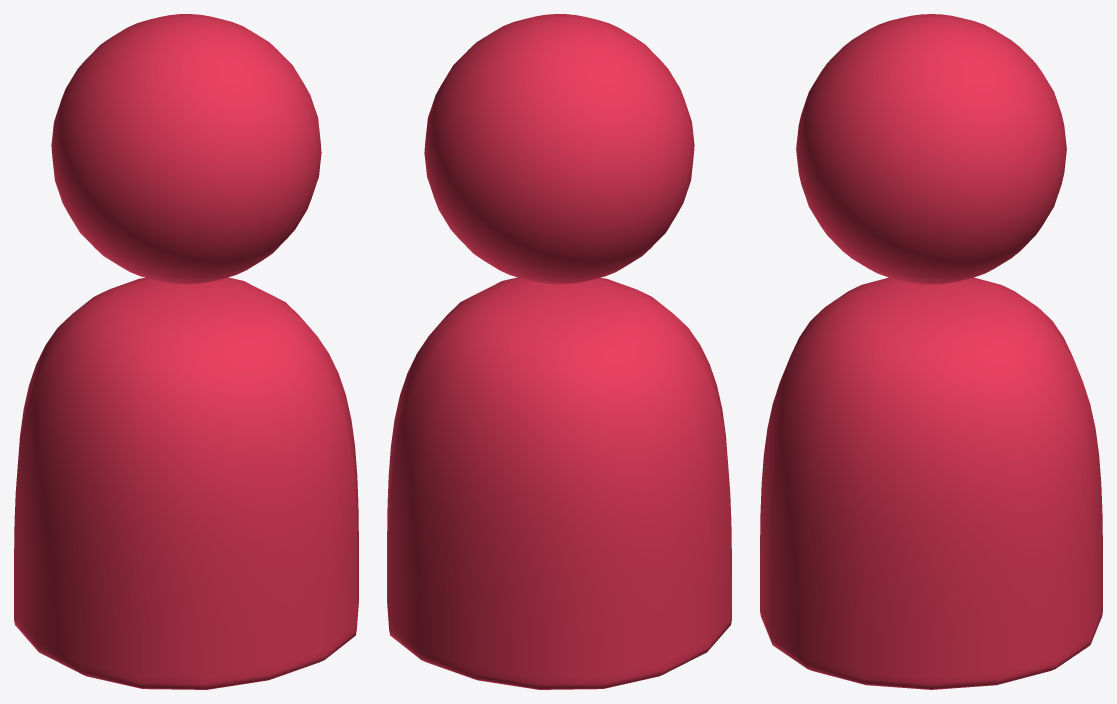
File: Player.fbx
The picture shows the model from 3 angles, left to right: view 1: azimuth 30°, elevation 25°; view 2: azimuth 150°, elevation 25°; view 3: azimuth 270°, elevation 25°; orthographic projection.
Parts seen in each view (by area): view 1: Player_Body, Player_Head; view 2: Player_Body, Player_Head; view 3: Player_Body, Player_Head.
Boxes of the visible parts, x1,y1,x2,y2 form: Player_Body: (14,277,358,689); Player_Head: (51,14,321,284); Player_Body: (387,277,731,689); Player_Head: (424,14,694,284); Player_Body: (760,277,1102,689); Player_Head: (796,14,1066,284).
Size of the model in its own units: 125 by 241 by 125.
